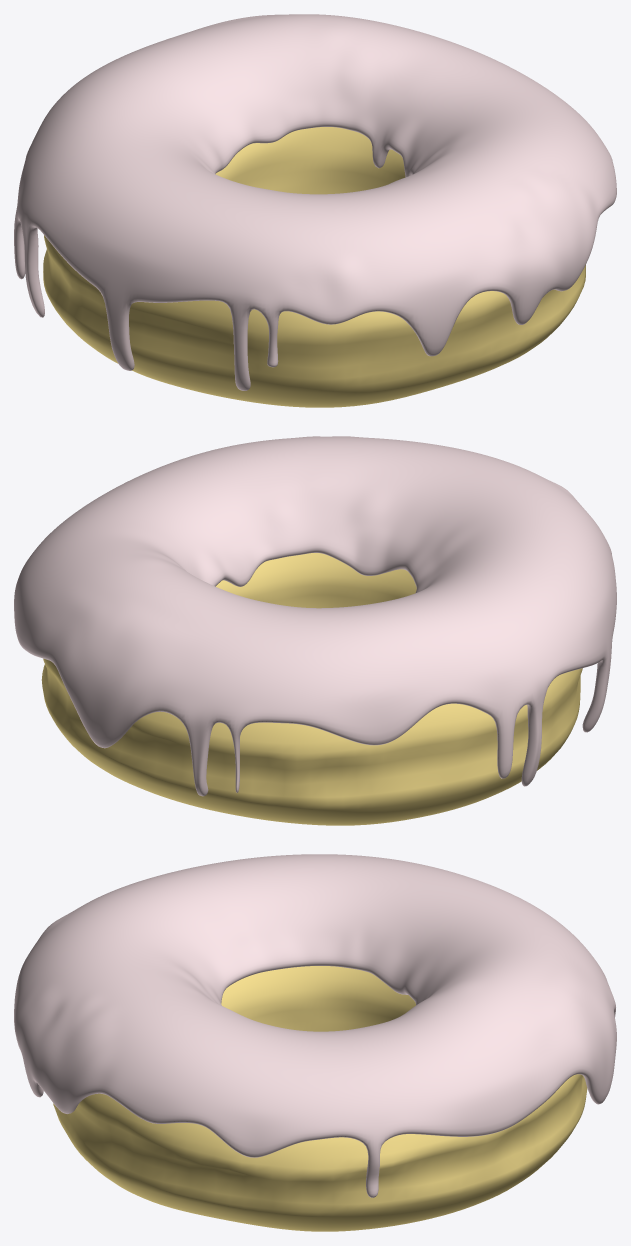
The model's file is donut3.fbx.
3 renders of one model, top to bottom at view 1: azimuth 30°, elevation 25°; view 2: azimuth 150°, elevation 25°; view 3: azimuth 270°, elevation 25°, orthographic. The views are drawn at different scales.
Parts seen in each view (by area): view 1: Donut_5_Icing; view 2: Donut_5_Icing; view 3: Donut_5_Icing.
Boxes of the visible parts, <box> form: Donut_5_Icing: <box>14,14,616,407</box>; Donut_5_Icing: <box>14,436,616,825</box>; Donut_5_Icing: <box>14,854,616,1231</box>.
Bounding box in the file's own units: 11.54 × 4.43 × 11.84.
